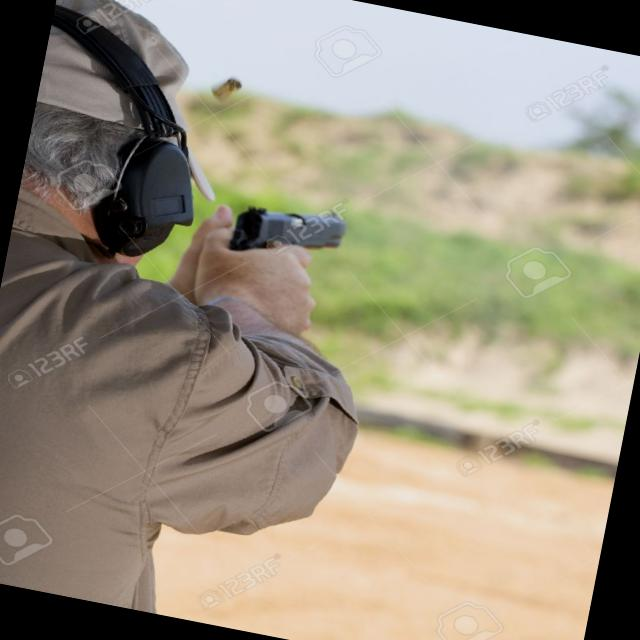handgun: (218, 185, 360, 276)
